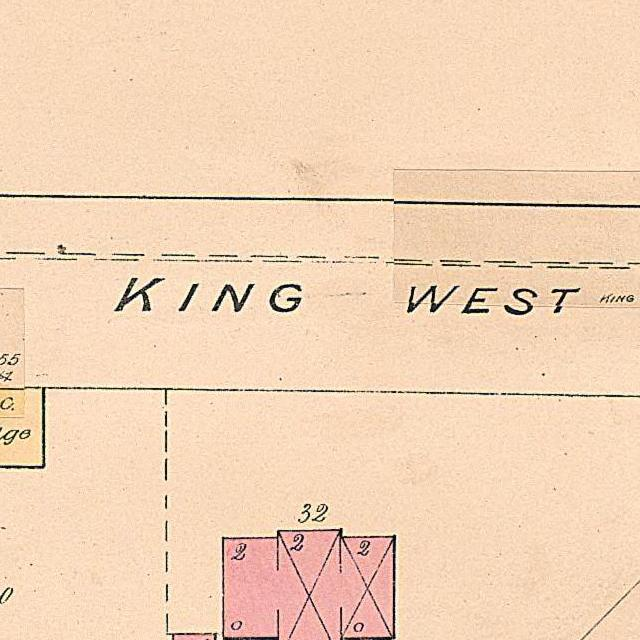building-footprints: (223, 530, 395, 640), (0, 388, 44, 467)
